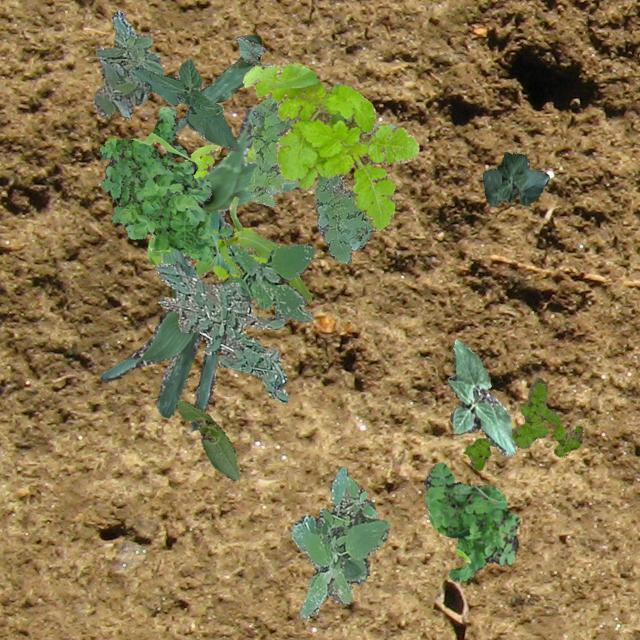crop: (148, 106, 396, 226), (100, 248, 216, 430), (192, 195, 310, 304), (132, 58, 238, 150), (174, 34, 260, 130), (446, 338, 514, 456), (176, 398, 238, 479), (482, 150, 548, 206), (236, 36, 272, 68)
weed: (242, 61, 418, 230), (97, 105, 235, 272), (154, 260, 288, 402), (146, 142, 266, 278), (291, 466, 388, 620), (462, 376, 582, 469), (424, 462, 518, 580), (92, 9, 164, 118), (222, 242, 314, 322), (248, 94, 298, 206), (312, 175, 374, 262)
